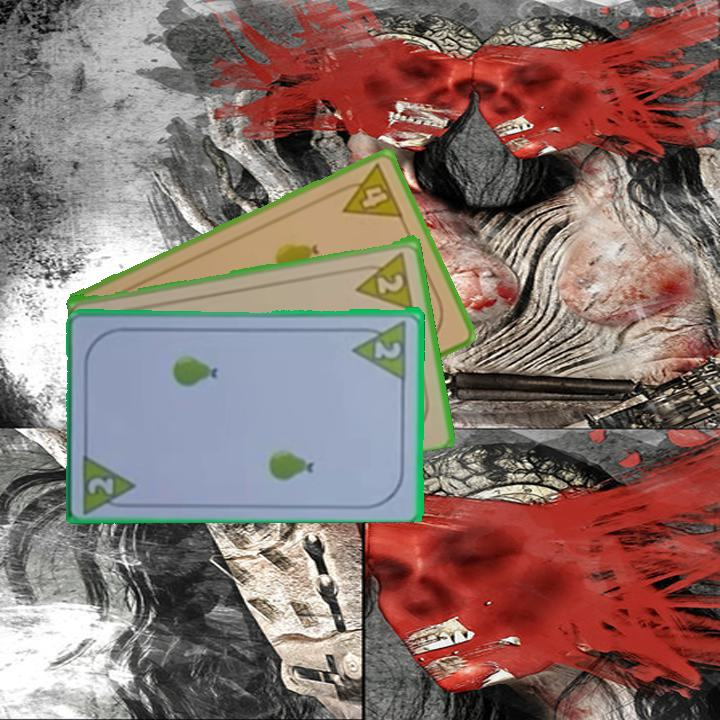2p: (350, 248, 417, 311), (79, 448, 140, 513), (350, 316, 410, 380)
4p: (331, 160, 406, 221)
